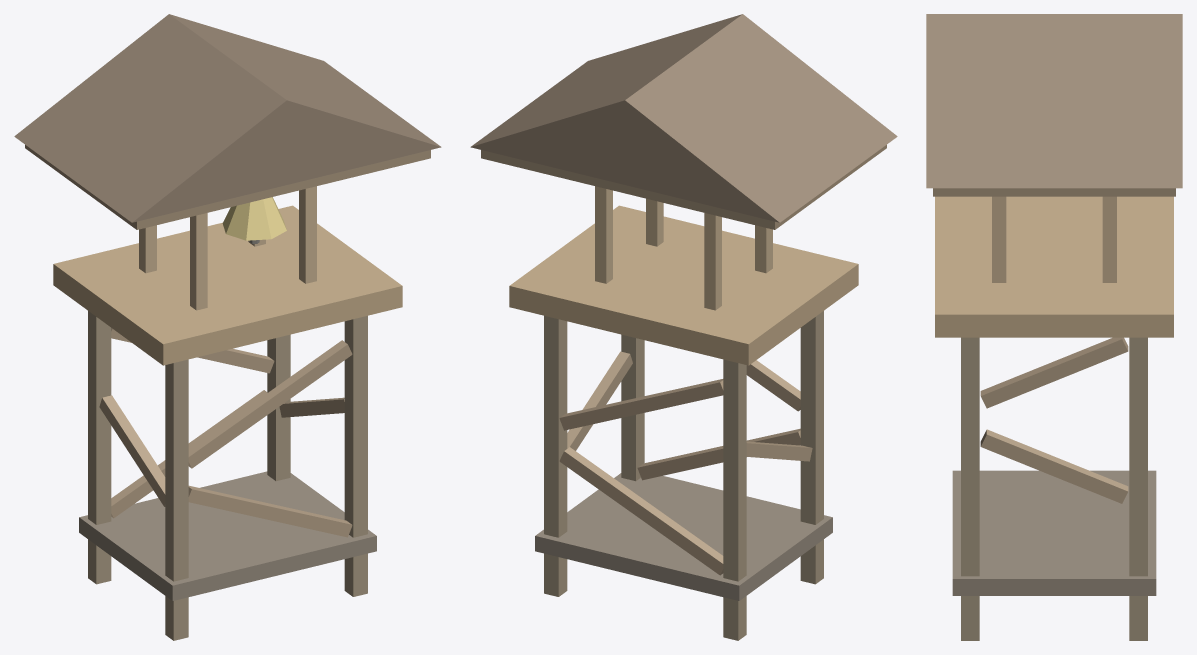
The model's file is reed_bell_tower_near-Buc4yFBo.glb.
3 renders of one model, left to right at view 1: azimuth 30°, elevation 25°; view 2: azimuth 150°, elevation 25°; view 3: azimuth 270°, elevation 25°, orthographic. The views are drawn at different scales.
Parts seen in each view (by area): view 1: reed_bell_tower_near; view 2: reed_bell_tower_near; view 3: reed_bell_tower_near.
Part boxes in pixels (<box>): reed_bell_tower_near: <box>14,14,441,640</box>; reed_bell_tower_near: <box>470,14,897,640</box>; reed_bell_tower_near: <box>926,14,1182,640</box>.
Size of the model in its own units: 8.8 by 14.35 by 5.8.
